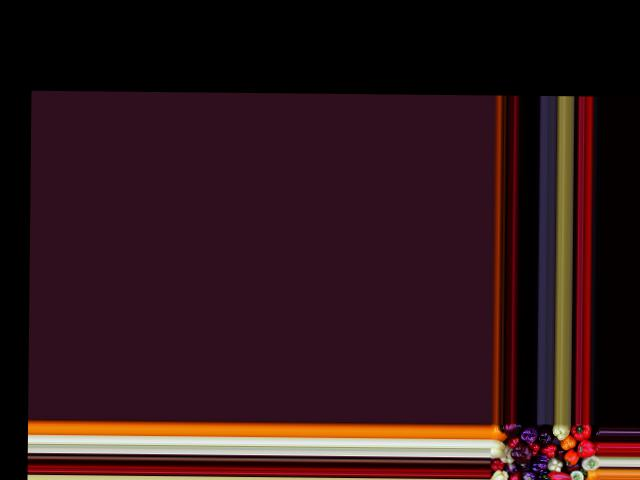bell_pepper: (579, 455, 599, 469)
